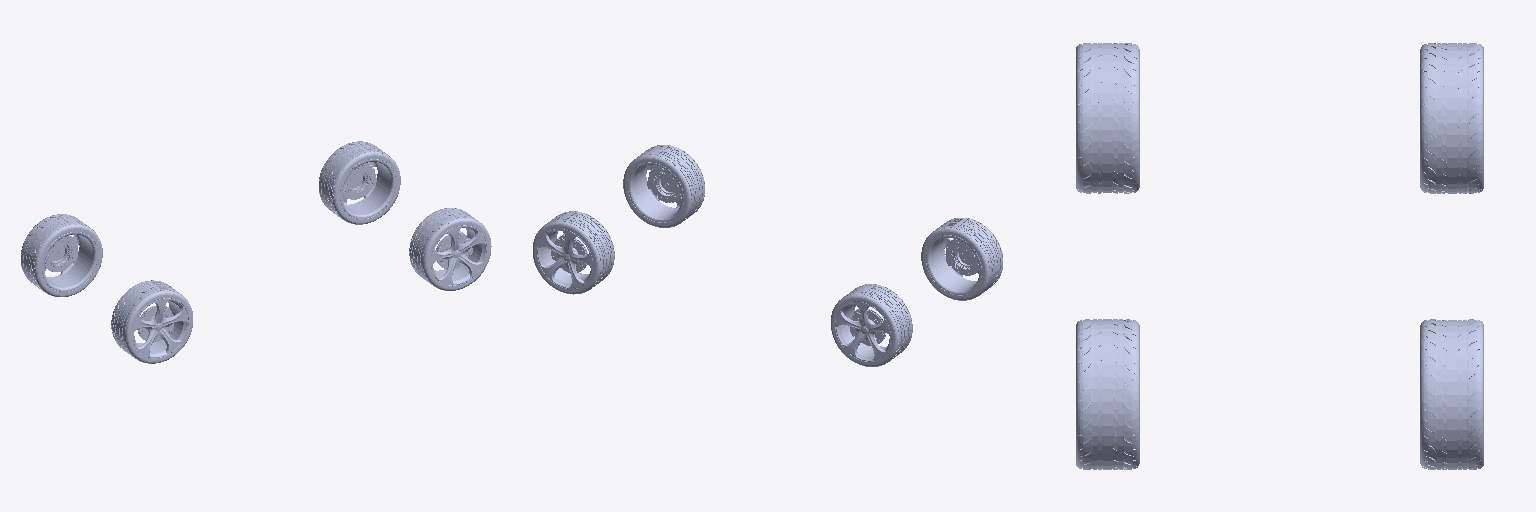
URDF robot description (mercedes):
<robot
  name="mercedes">
  <link
    name="base_link">
    <inertial>
      <origin
        xyz="-0.022756 -0.00070119 -0.16882"
        rpy="0 0 0" />
      <mass
        value="0.46994" />
      <inertia
        ixx="0.019711"
        ixy="-9.4374E-05"
        ixz="-0.23434"
        iyy="2.8911"
        iyz="-7.911E-06"
        izz="2.8714" />
    </inertial>
    <visual>
      <origin
        xyz="0 0 0"
        rpy="0 0 0" />
      <geometry>
        <mesh
          filename="package://mercedes/meshes/base_link.STL" />
      </geometry>
      <material
        name="">
        <color
          rgba="1 1 1 1" />
      </material>
    </visual>
    <collision>
      <origin
        xyz="0 0 0"
        rpy="0 0 0" />
      <geometry>
        <mesh
          filename="package://mercedes/meshes/base_link.STL" />
      </geometry>
    </collision>
  </link>
  <link
    name="fwr">
    <inertial>
      <origin
        xyz="-1.6795 0.81799 -0.47744"
        rpy="0 0 0" />
      <mass
        value="18.518" />
      <inertia
        ixx="0.0063448"
        ixy="-0.0016896"
        ixz="-0.0017342"
        iyy="0.0073613"
        iyz="-0.00042336"
        izz="0.012824" />
    </inertial>
    <visual>
      <origin
        xyz="0 0 0"
        rpy="0 0 0" />
      <geometry>
        <mesh
          filename="package://mercedes/meshes/fwr.STL" />
      </geometry>
      <material
        name="">
        <color
          rgba="0.79216 0.81961 0.93333 1" />
      </material>
    </visual>
    <collision>
      <origin
        xyz="0 0 0"
        rpy="0 0 0" />
      <geometry>
        <mesh
          filename="package://mercedes/meshes/fwr.STL" />
      </geometry>
    </collision>
  </link>
  <joint
    name="fwr"
    type="continuous">
    <origin
      xyz="0 0 0"
      rpy="0 0 0" />
    <parent
      link="base_link" />
    <child
      link="fwr" />
    <axis
      xyz="0 -1 0" />
  </joint>
  <link
    name="fwl">
    <inertial>
      <origin
        xyz="-1.679495721854 -0.819230283138361 -0.477430986197705"
        rpy="0 0 0" />
      <mass
        value="18.5176274523984" />
      <inertia
        ixx="0.00636194279569933"
        ixy="0.00168734652676502"
        ixz="-0.001765955052283"
        iyy="0.00736137905740598"
        iyz="0.000432474595772037"
        izz="0.0128067389927221" />
    </inertial>
    <visual>
      <origin
        xyz="0 0 0"
        rpy="0 0 0" />
      <geometry>
        <mesh
          filename="package://mercedes/meshes/fwl.STL" />
      </geometry>
      <material
        name="">
        <color
          rgba="0.792156862745098 0.819607843137255 0.933333333333333 1" />
      </material>
    </visual>
    <collision>
      <origin
        xyz="0 0 0"
        rpy="0 0 0" />
      <geometry>
        <mesh
          filename="package://mercedes/meshes/fwl.STL" />
      </geometry>
    </collision>
  </link>
  <joint
    name="fwl"
    type="continuous">
    <origin
      xyz="0 0 0"
      rpy="0 0 0" />
    <parent
      link="base_link" />
    <child
      link="fwl" />
    <axis
      xyz="0 -1 0" />
  </joint>
  <link
    name="rwr">
    <inertial>
      <origin
        xyz="1.35068012394788 -0.819230281010398 -0.476823818624177"
        rpy="0 0 0" />
      <mass
        value="18.5176283437402" />
      <inertia
        ixx="0.00744638881272935"
        ixy="0.00154895947081522"
        ixz="-0.00298859647759909"
        iyy="0.00736145911947223"
        iyz="0.000796883459145383"
        izz="0.0117223831818257" />
    </inertial>
    <visual>
      <origin
        xyz="0 0 0"
        rpy="0 0 0" />
      <geometry>
        <mesh
          filename="package://mercedes/meshes/rwr.STL" />
      </geometry>
      <material
        name="">
        <color
          rgba="0.792156862745098 0.819607843137255 0.933333333333333 1" />
      </material>
    </visual>
    <collision>
      <origin
        xyz="0 0 0"
        rpy="0 0 0" />
      <geometry>
        <mesh
          filename="package://mercedes/meshes/rwr.STL" />
      </geometry>
    </collision>
  </link>
  <joint
    name="rwr"
    type="continuous">
    <origin
      xyz="0 0 0"
      rpy="0 0 0" />
    <parent
      link="base_link" />
    <child
      link="rwr" />
    <axis
      xyz="0 -1 0" />
  </joint>
  <link
    name="rwl">
    <inertial>
      <origin
        xyz="1.3506828944589 0.817986562486695 -0.476829356487747"
        rpy="0 0 0" />
      <mass
        value="18.5176264794013" />
      <inertia
        ixx="0.00742395272283717"
        ixy="-0.00155232104240781"
        ixz="-0.00297241854192936"
        iyy="0.00736143359548626"
        iyz="-0.000790279348357291"
        izz="0.0117447744343887" />
    </inertial>
    <visual>
      <origin
        xyz="0 0 0"
        rpy="0 0 0" />
      <geometry>
        <mesh
          filename="package://mercedes/meshes/rwl.STL" />
      </geometry>
      <material
        name="">
        <color
          rgba="0.792156862745098 0.819607843137255 0.933333333333333 1" />
      </material>
    </visual>
    <collision>
      <origin
        xyz="0 0 0"
        rpy="0 0 0" />
      <geometry>
        <mesh
          filename="package://mercedes/meshes/rwl.STL" />
      </geometry>
    </collision>
  </link>
  <joint
    name="rwl"
    type="continuous">
    <origin
      xyz="0 0 0"
      rpy="0 0 0" />
    <parent
      link="base_link" />
    <child
      link="rwl" />
    <axis
      xyz="0 -1 0" />
  </joint>
</robot>

--- Facts derived from the render (not from the file) ---
Views: 3 orthographic renders of the robot side by side, from view 1: azimuth 30°, elevation 25°; view 2: azimuth 150°, elevation 25°; view 3: azimuth 270°, elevation 25°.
Model mercedes with 5 links and 4 joints (4 continuous), rooted at base_link, posed all joints at 0.
Visible links, largest first — view 1: rwl, fwr, rwr, fwl; view 2: rwr, fwl, rwl, fwr; view 3: rwr, fwr, fwl, rwl.
Boxes of the visible links, left/top/right/bottom form: rwl: left=319, top=141, right=400, bottom=224; fwr: left=21, top=214, right=102, bottom=296; rwr: left=409, top=208, right=491, bottom=290; fwl: left=111, top=280, right=192, bottom=363; rwr: left=623, top=145, right=704, bottom=227; fwl: left=921, top=218, right=1002, bottom=300; rwl: left=533, top=211, right=614, bottom=294; fwr: left=831, top=284, right=912, bottom=366; rwr: left=1076, top=319, right=1139, bottom=469; fwr: left=1420, top=43, right=1483, bottom=193; fwl: left=1076, top=43, right=1139, bottom=193; rwl: left=1420, top=319, right=1483, bottom=469.
Size in the robot's own frame: 3.73 by 1.89 by 0.8654 metres.
Meshes: 5 distinct files referenced, 4 mesh visuals loaded (4 binary STL); not drawn: 1 (reference not matched to a file when rendering).